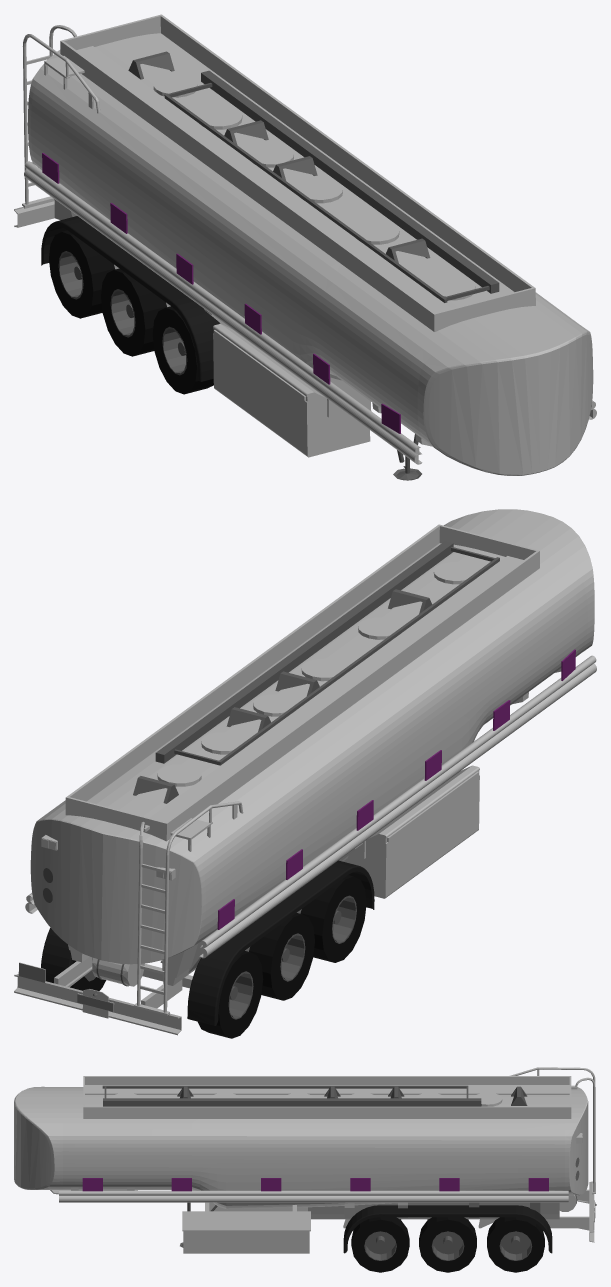
The model's file is container_to_road - +__#U00bf#U00b4.FBX.
The picture shows the model from 3 angles, top to bottom: view 1: azimuth 30°, elevation 25°; view 2: azimuth 150°, elevation 25°; view 3: azimuth 270°, elevation 25°; orthographic projection. The views are drawn at different scales.
Parts seen in each view (by area): view 1: JTTNEUM4; view 2: JTTNEUM4; view 3: JTTNEUM4.
Boxes of the visible parts, x1,y1,x2,y2 form: JTTNEUM4: [14, 14, 596, 480]; JTTNEUM4: [14, 509, 596, 1038]; JTTNEUM4: [14, 1067, 596, 1272].
Size of the model in its own units: 9055 by 8763 by 29507.
